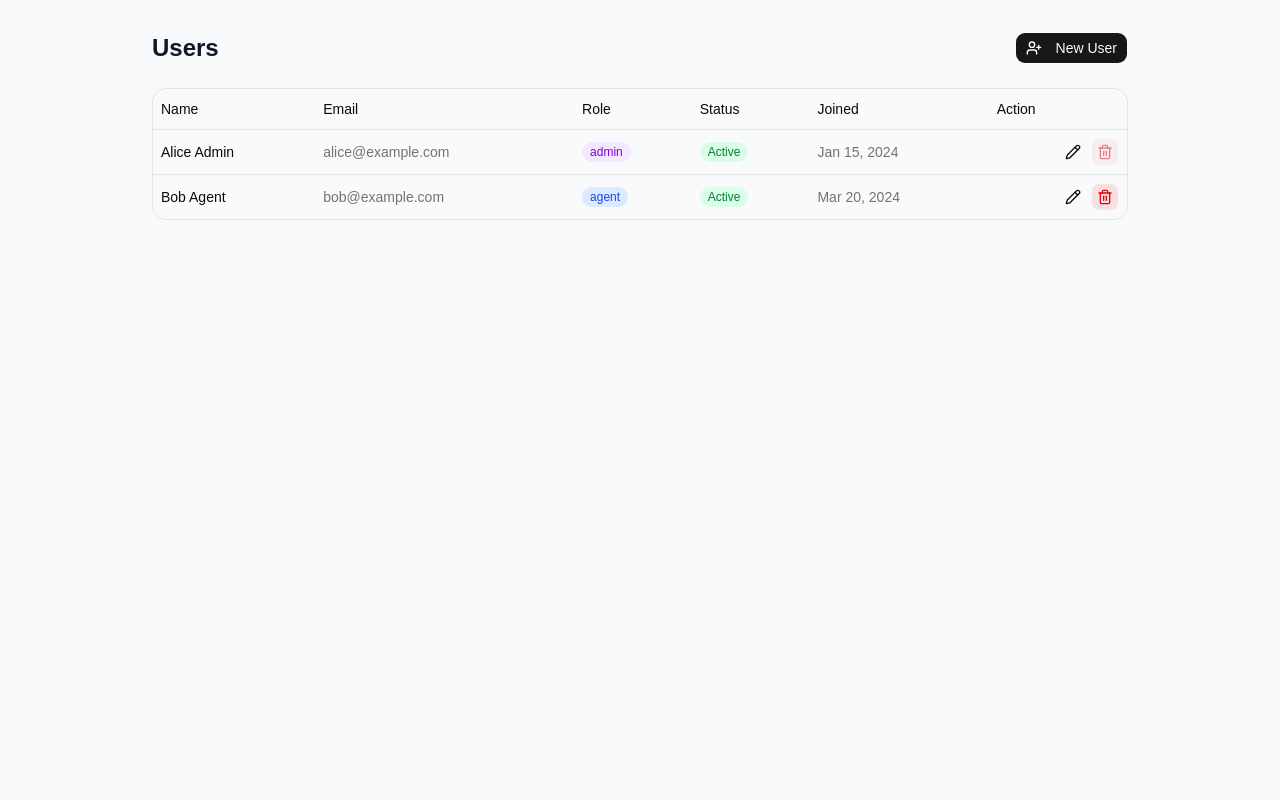
Scenario: UsersPage › Edit user dialog › opens the dialog pre-filled with the user's current name
Expected: the text "Bob Agent" is shown, [153,174,315,218]
Step 1. Click the button titled "Edit user" in the row of "Bob Agent" → {"x": 1073, "y": 196}, box [1059,182,1087,210]
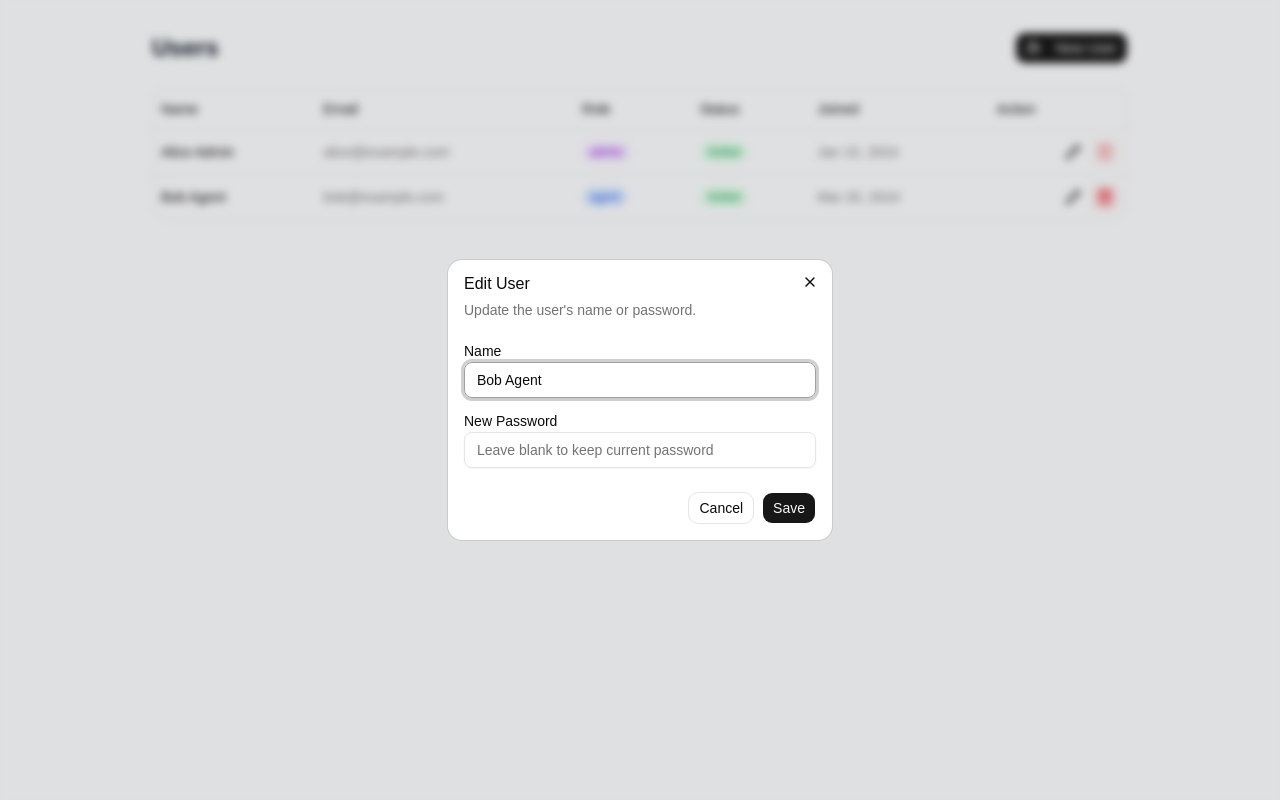
Expected: the dialog is shown, [448,260,832,540]
Expected: the field showing "Bob Agent" is shown, [464,362,816,398]
